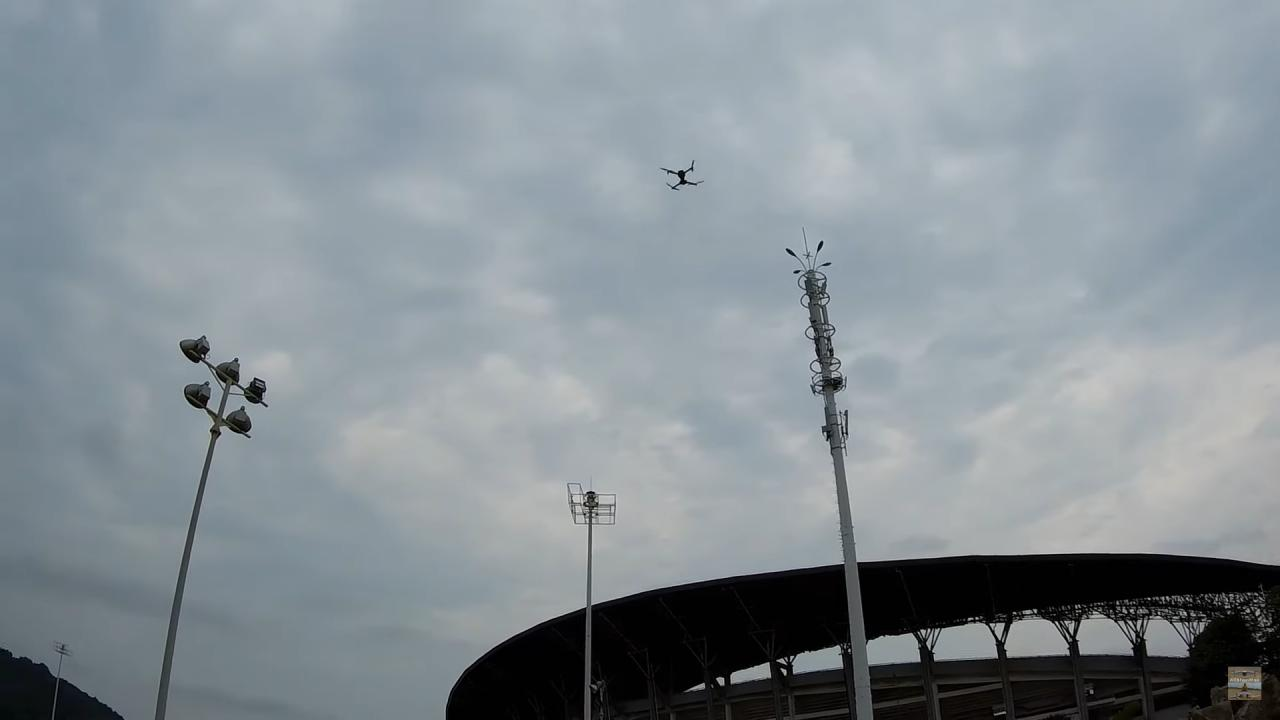Drone: (651, 154, 713, 200)
